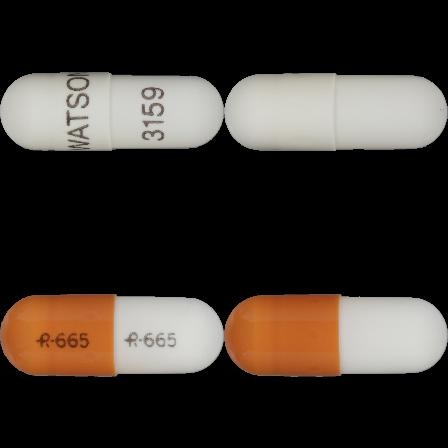0615-1374: (0, 0, 224, 224)
